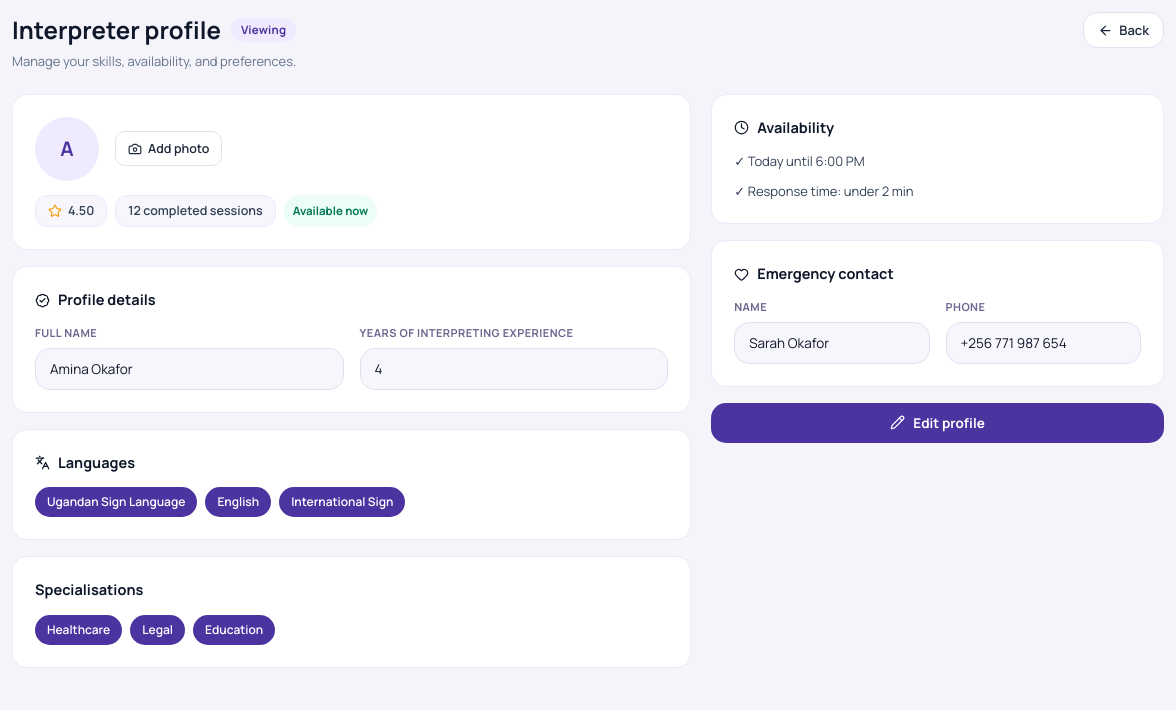
Test: interpreter ProfilePage › editing unlocks the fields and saves the years of experience
Click the button "Edit profile": (938, 422) [711, 402, 1164, 442]
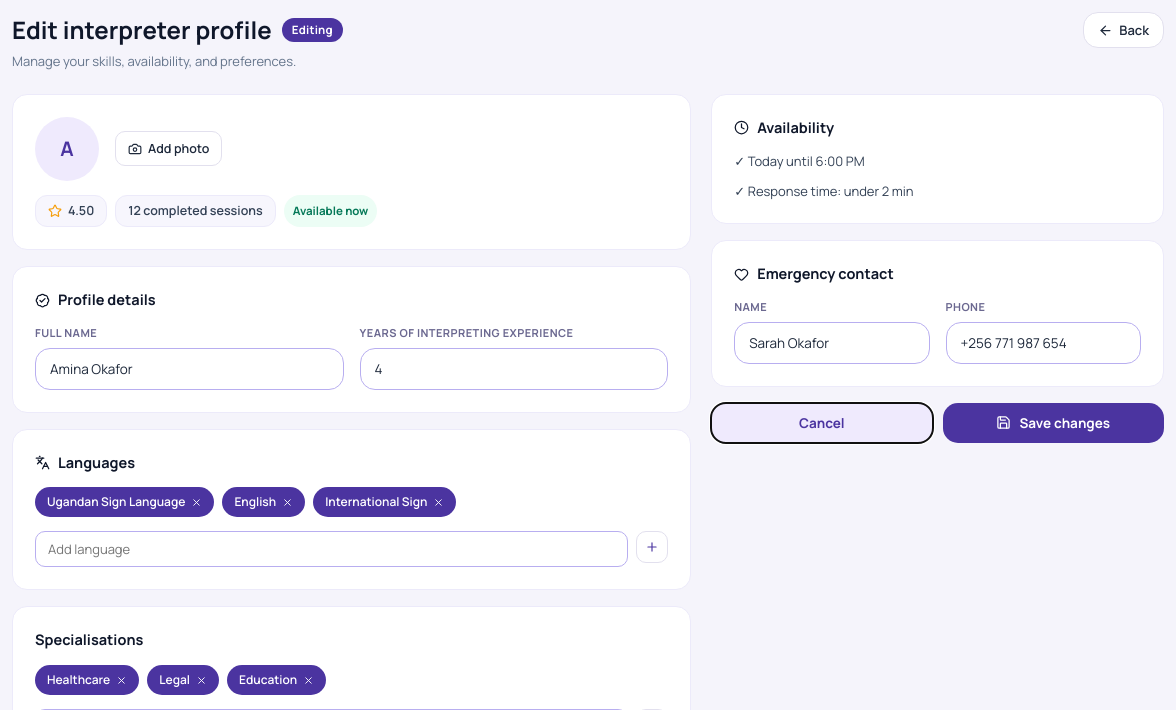
Check: the text "Editing" is shown, box [282, 18, 343, 42]
Replace the text in the number field labelled "Years of interpreting experience" with "6": (514, 368) [360, 348, 668, 390]
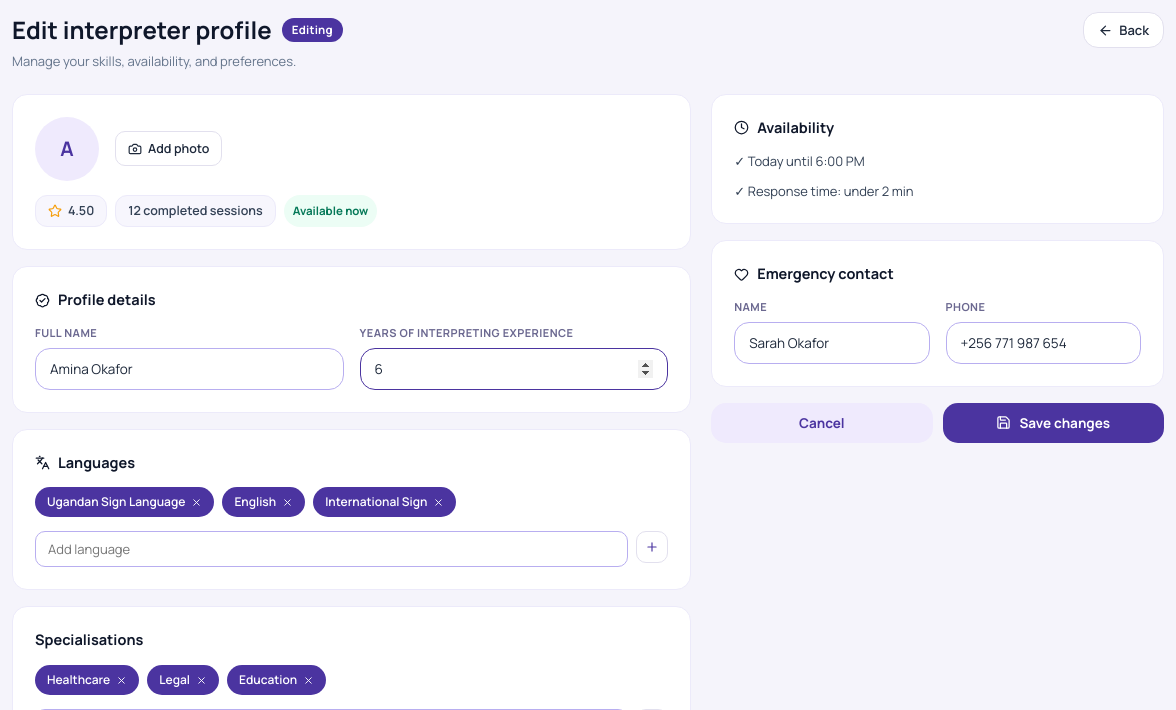
Click the button "Save changes": (1053, 422) [943, 402, 1164, 442]
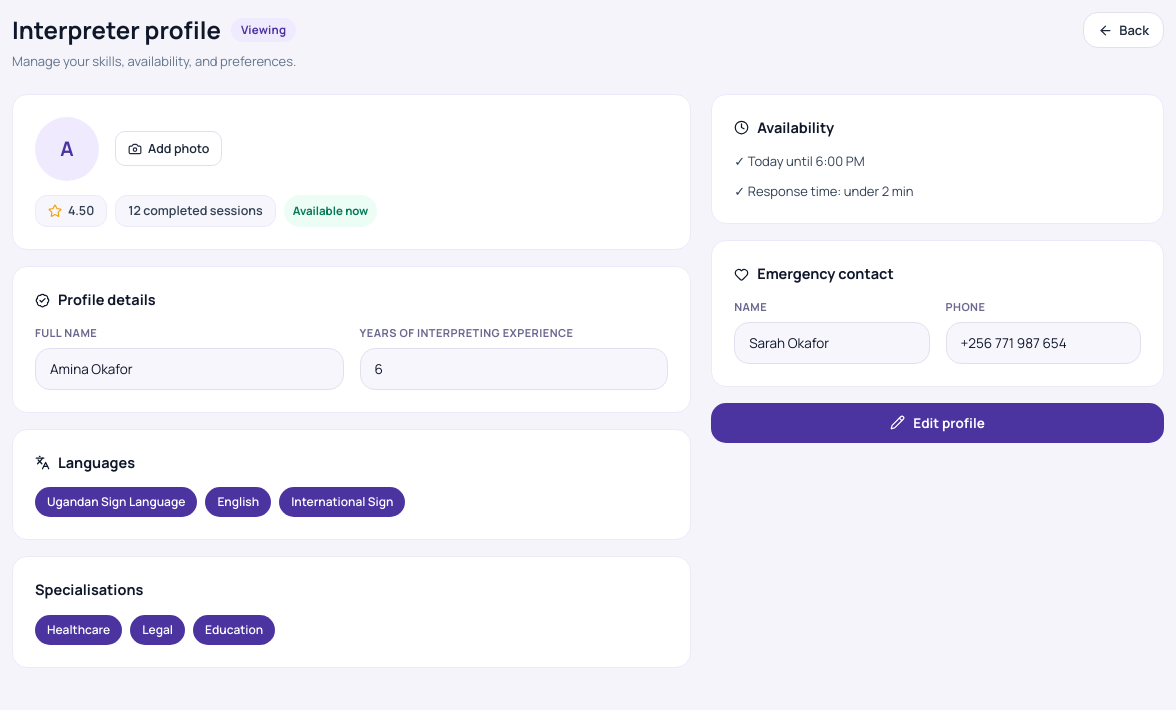
Check: the text "Viewing" is shown, box [231, 18, 296, 42]
Check: the number field labelled "Years of interpreting experience" is disabled, box [360, 348, 668, 390]
